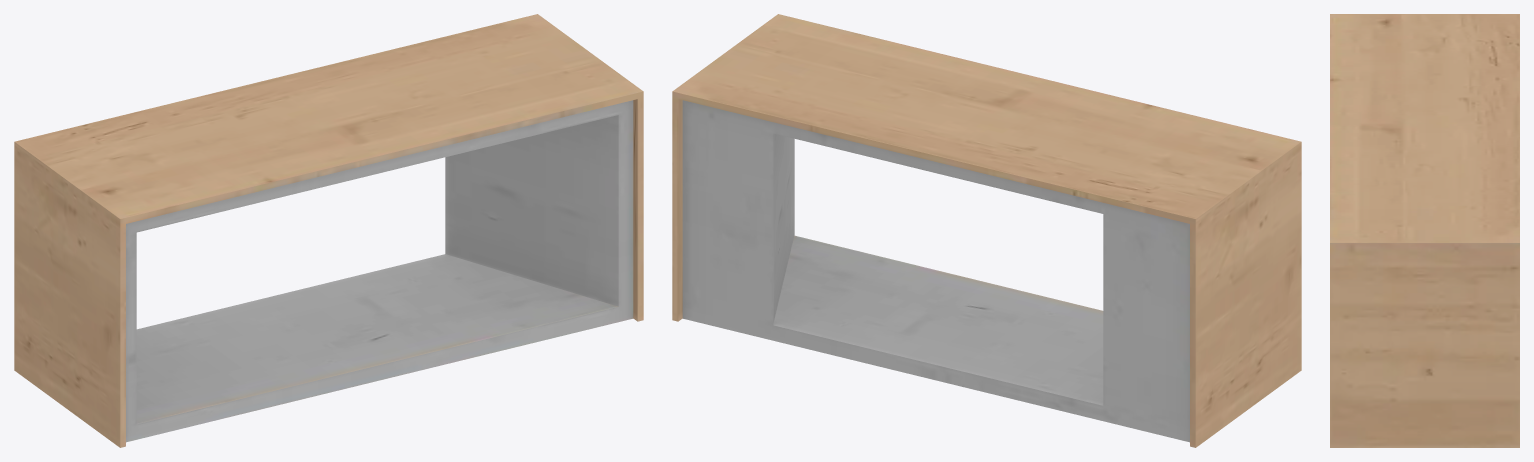
The model's file is table.glb.
3 views of the same model, side by side, from view 1: azimuth 30°, elevation 25°; view 2: azimuth 150°, elevation 25°; view 3: azimuth 270°, elevation 25° (orthographic). The views are drawn at different scales.
Visible parts, largest first — view 1: Mesh; view 2: Mesh; view 3: Mesh.
Part boxes in pixels (x1=…): Mesh: x1=14, y1=14, x2=643, y2=447; Mesh: x1=672, y1=14, x2=1301, y2=447; Mesh: x1=1330, y1=14, x2=1519, y2=447.
Size of the model in its own units: 3.2 by 1.34 by 1.12.
1 material, 1 textured.
